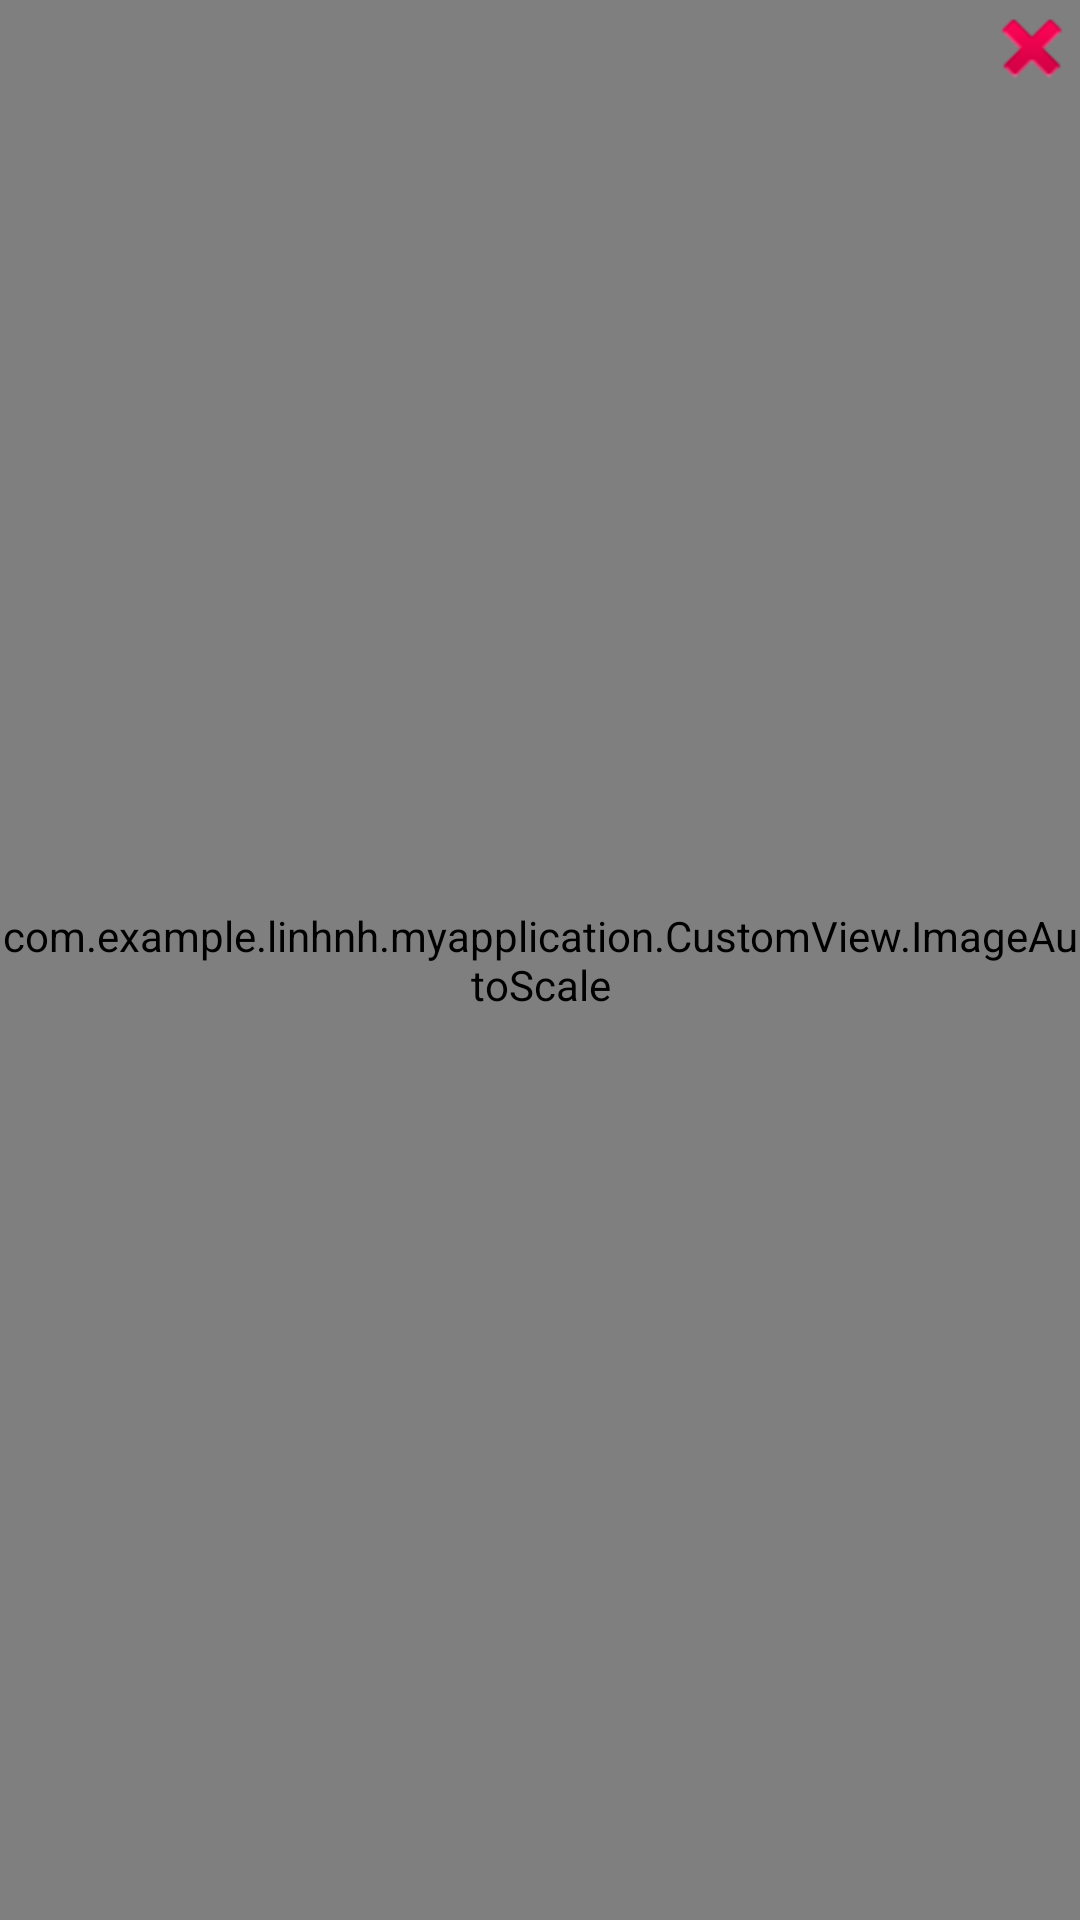

Locate icon controls on the screen. Image size 1080w x 1920h, boxes as (x1, y1, x2, y2).
delete: (1002, 19, 1062, 78)
